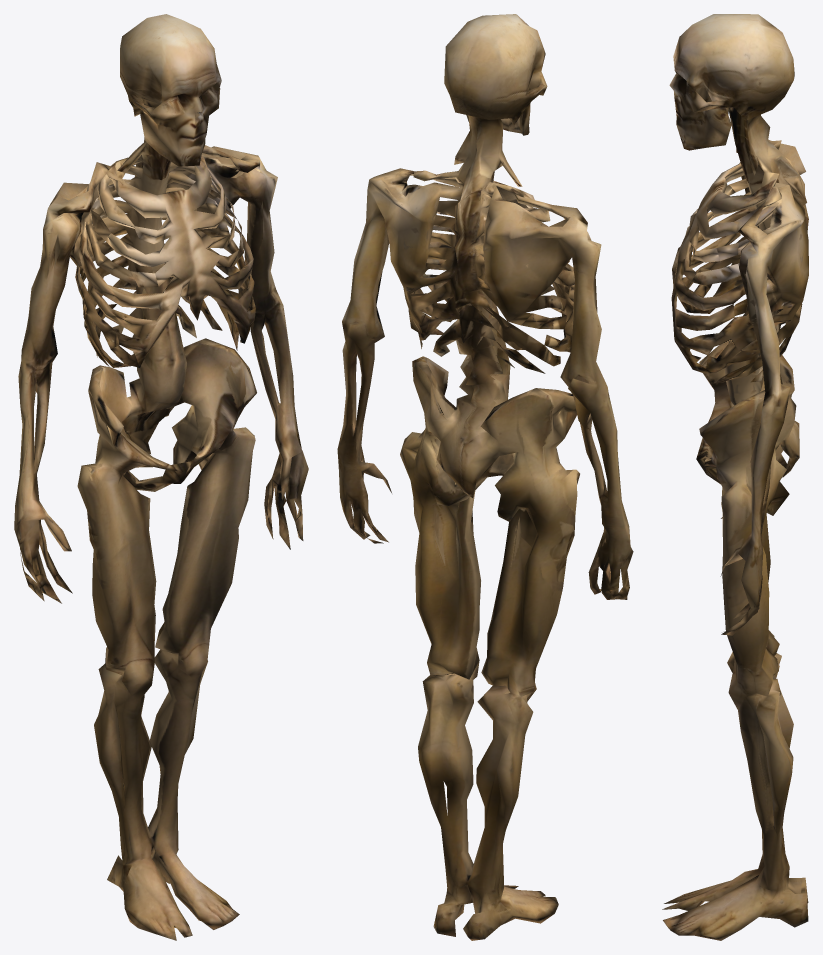
Rendered from skeleton.fbx.
3 views of the same model, side by side, from view 1: azimuth 30°, elevation 25°; view 2: azimuth 150°, elevation 25°; view 3: azimuth 270°, elevation 25° (orthographic).
Visible parts, largest first — view 1: Mesh1.0; view 2: Mesh1.0; view 3: Mesh1.0.
Boxes of the visible parts, box(x1,y1,x2,y2) form: Mesh1.0: box(14, 14, 308, 940); Mesh1.0: box(337, 14, 633, 940); Mesh1.0: box(662, 14, 808, 940).
Bounding box in the file's own units: 68.22 × 200 × 29.61.
Materials: 1 (1 with a texture image).
